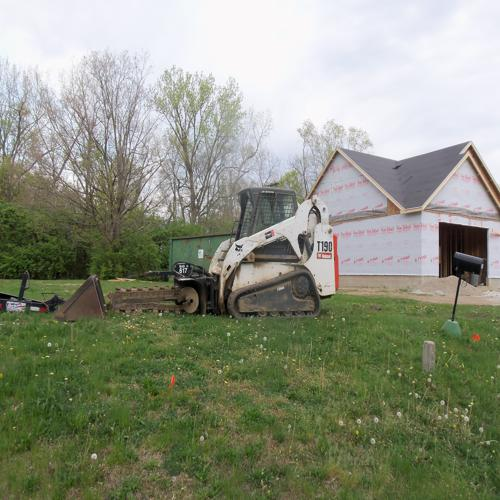con_eq: (45, 185, 344, 313)
